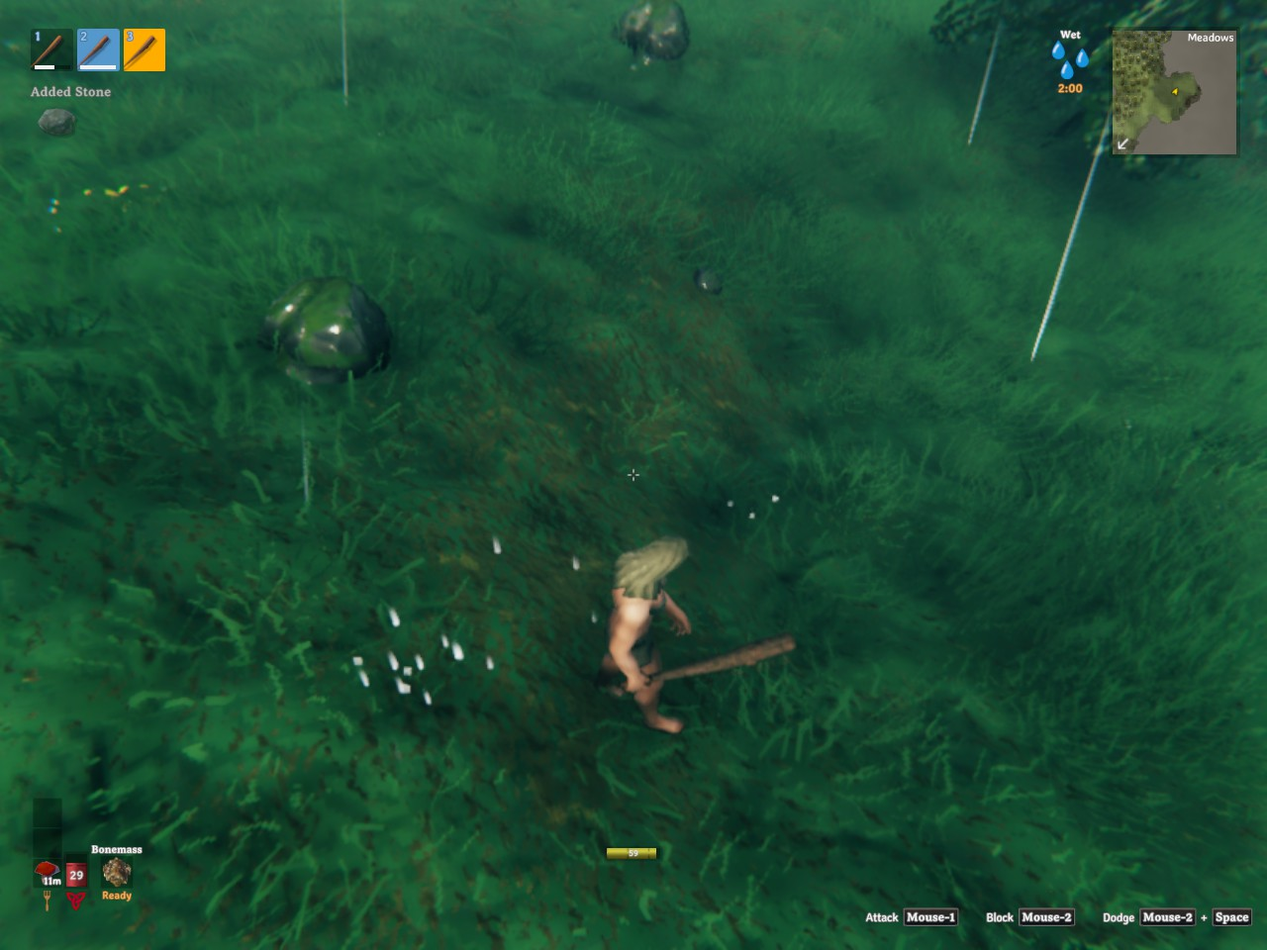Food Indicator: (36, 797, 63, 891)
Health Bar: (63, 820, 90, 891)
Hotbar: (24, 21, 195, 80)
Stamina Bar: (601, 841, 669, 863)
Status Indicator: (1024, 22, 1111, 100)
Stone: (694, 267, 722, 294)
